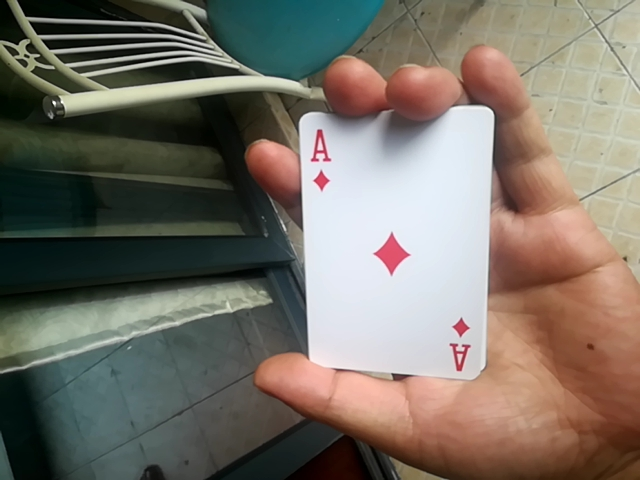fk a: (292, 101, 500, 382)
